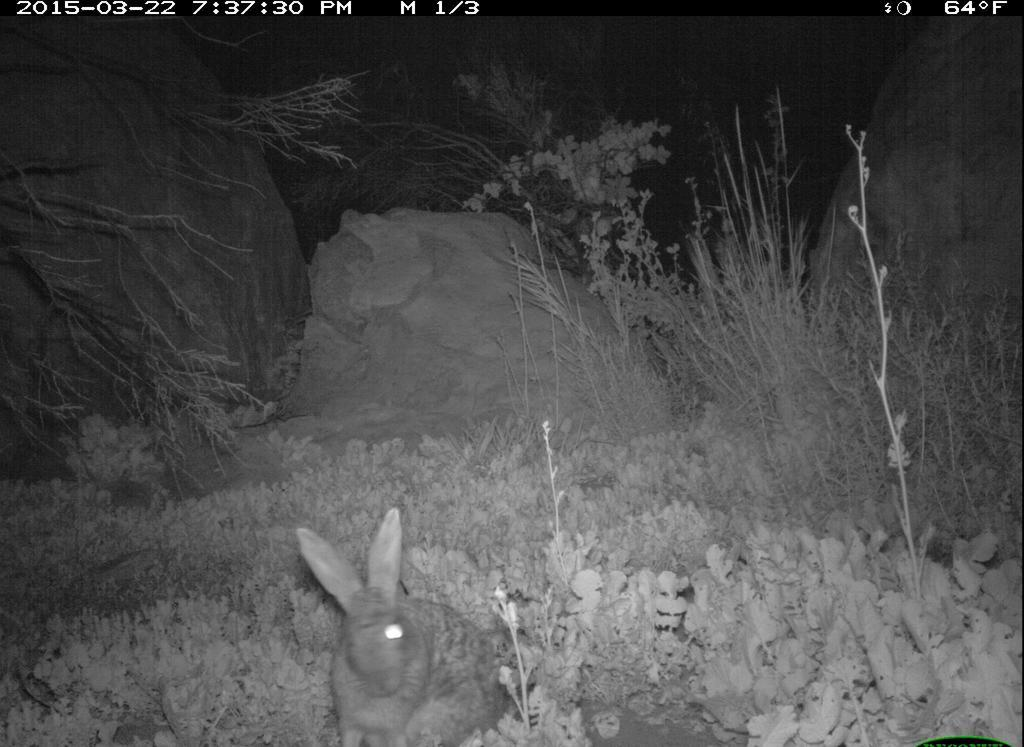rabbit: (286, 507, 511, 747)
